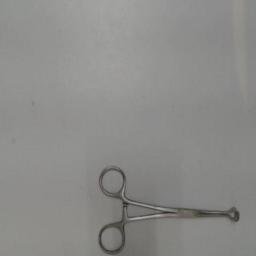Babcock Tissue Forceps: (96, 160, 242, 254)
